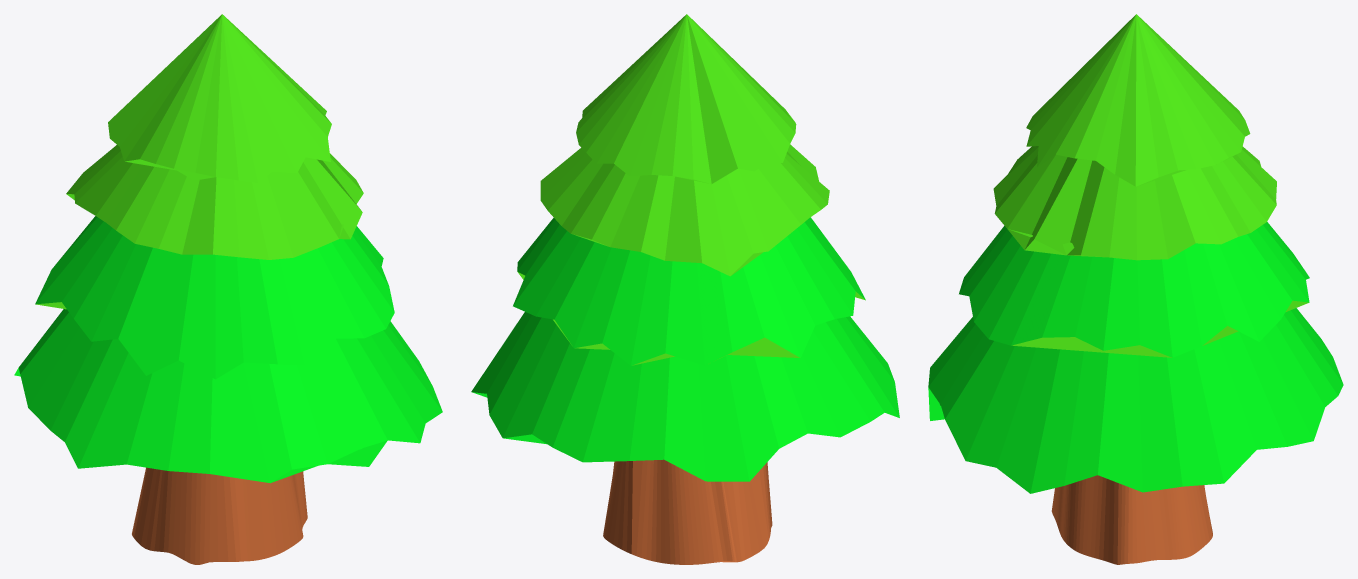
The model's file is tree.fbx.
3 renders of one model, left to right at view 1: azimuth 30°, elevation 25°; view 2: azimuth 150°, elevation 25°; view 3: azimuth 270°, elevation 25°, orthographic.
Parts seen in each view (by area): view 1: Cylinder; view 2: Cylinder; view 3: Cylinder.
Part boxes in pixels (left/top/right/bottom): Cylinder: left=14, top=14, right=442, bottom=564; Cylinder: left=471, top=14, right=899, bottom=564; Cylinder: left=928, top=14, right=1343, bottom=564.
Size of the model in its own units: 109 by 151 by 110.
